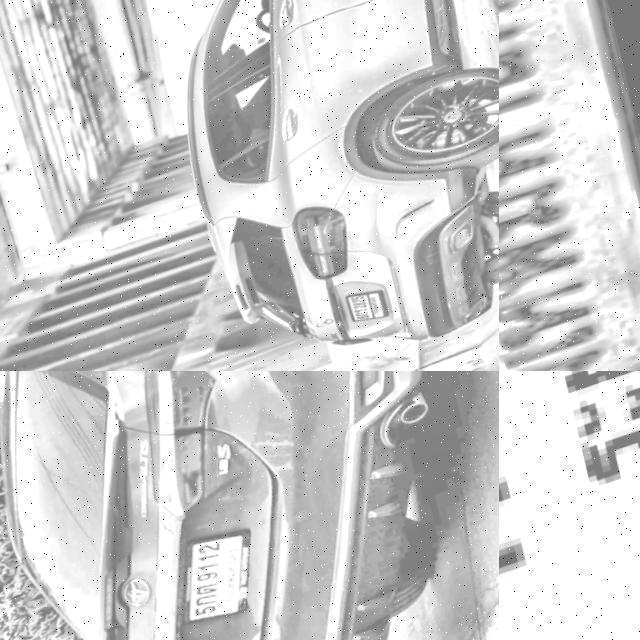license-plate: (499, 0, 640, 371), (499, 371, 640, 640), (162, 523, 278, 640), (345, 290, 392, 336)
